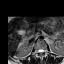CCS_normal: (39, 46, 41, 56)
LFS_normal: (43, 46, 45, 54)
LLS_normal: (41, 46, 43, 55)
RFS_normal: (35, 47, 37, 55)
RLS_normal: (37, 47, 39, 55)
